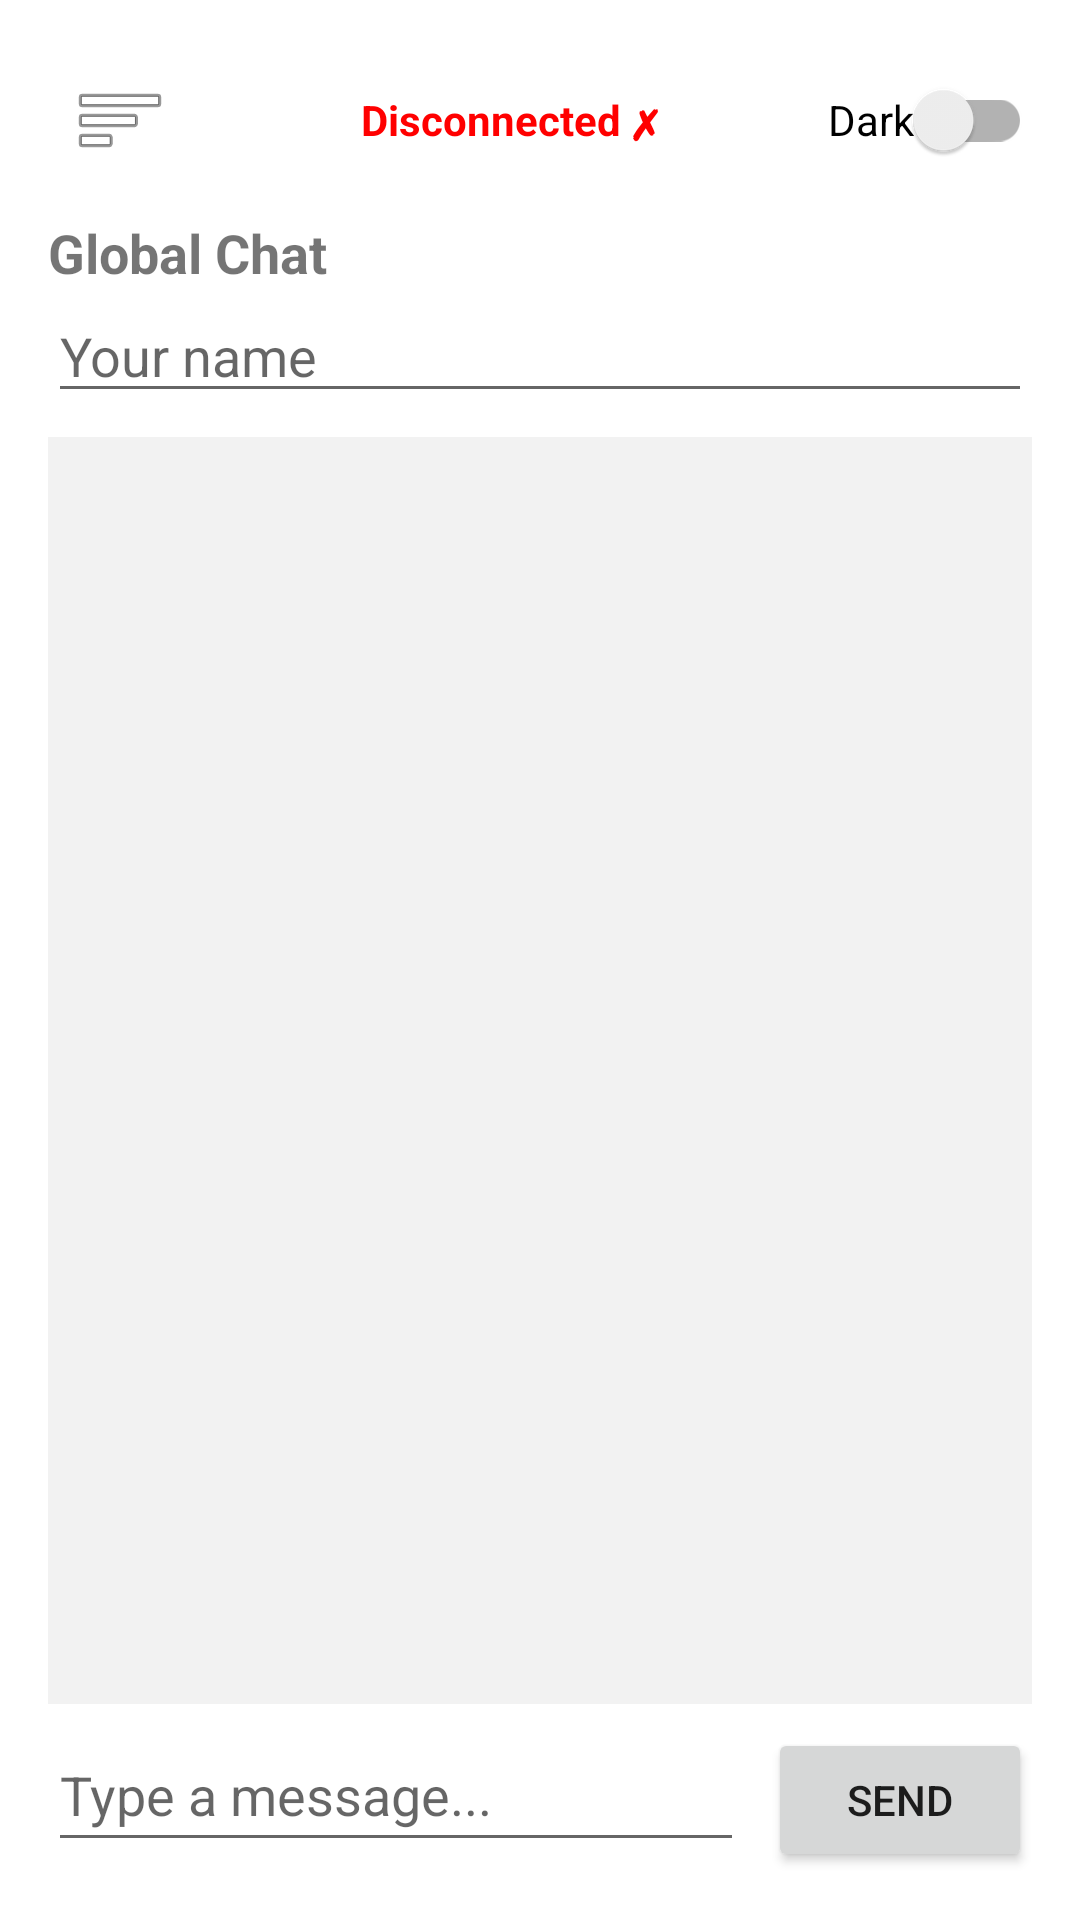

Icon bounding boxes for this 1080x1920 phone screenshot, format bbox(x1, y1, x2, y2):
Menu: bbox(79, 94, 161, 147)
